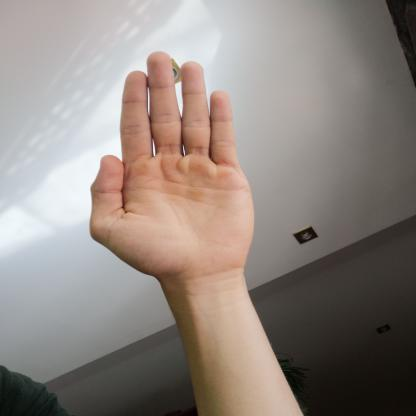SEEN: (66, 41, 269, 288)
